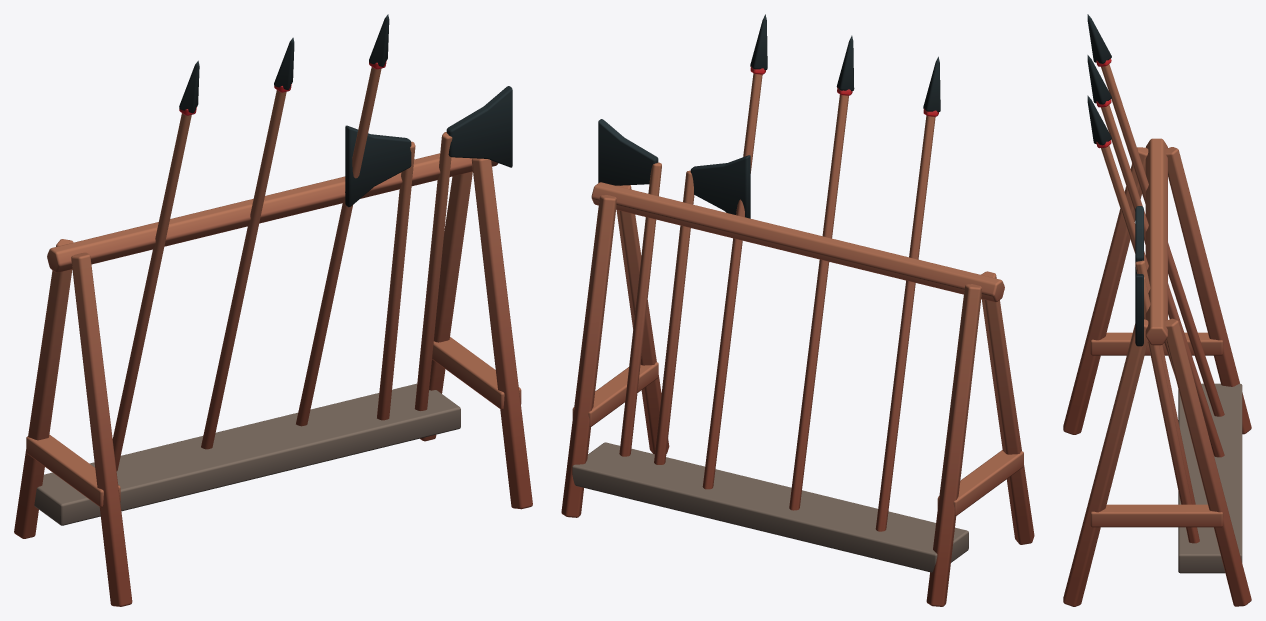
Rendered from weapon_rack.glb.
3 renders of one model, left to right at view 1: azimuth 30°, elevation 25°; view 2: azimuth 150°, elevation 25°; view 3: azimuth 270°, elevation 25°, orthographic. The views are drawn at different scales.
Parts seen in each view (by area): view 1: weapon_rack; view 2: weapon_rack; view 3: weapon_rack.
Part boxes in pixels (x1,y1,x2,y2): weapon_rack: (14, 14, 532, 606); weapon_rack: (561, 14, 1034, 606); weapon_rack: (1063, 14, 1251, 606).
Size of the model in its own units: 2.13 by 2.35 by 0.8802.
1 material, 1 textured.
